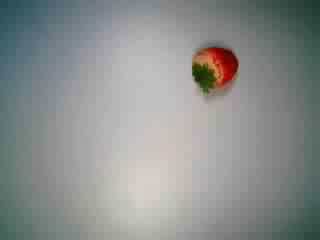strawberry: (177, 36, 245, 100)
